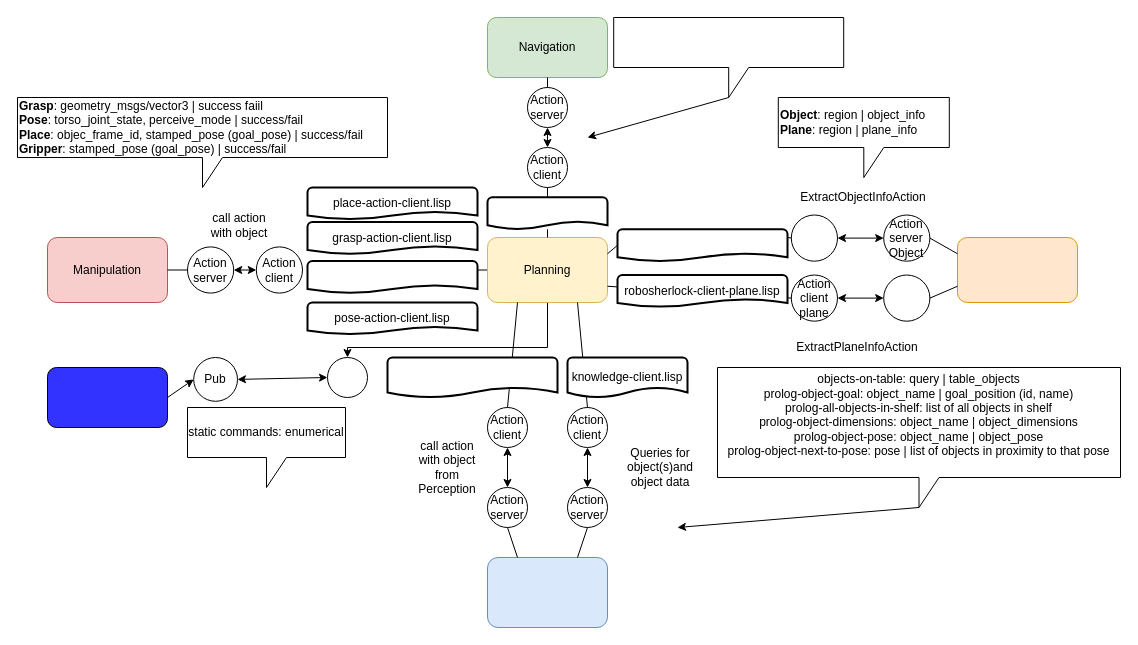
This 1138x645 diagram has some shape labels left out. Each missing label, with the centre of its shape:
Action client object: point (814, 237)
Action server plane: point (906, 297)
Knowledge: point (547, 592)
knowledge-insertion-client.lisp: point (472, 377)
move-gripper-client.lisp: point (392, 277)
Navigation : pose_stamped | success/fail: point (728, 57)
navigation-action.lisp: point (547, 213)
NLP: point (107, 397)
Perception: point (1017, 269)
robosherlock-clientobject.lisp: point (702, 245)
Sub: point (347, 377)
